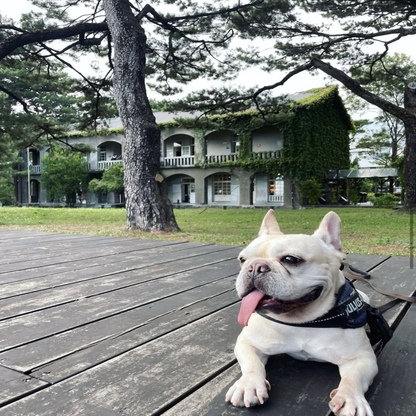bulldog: (221, 205, 387, 416)
